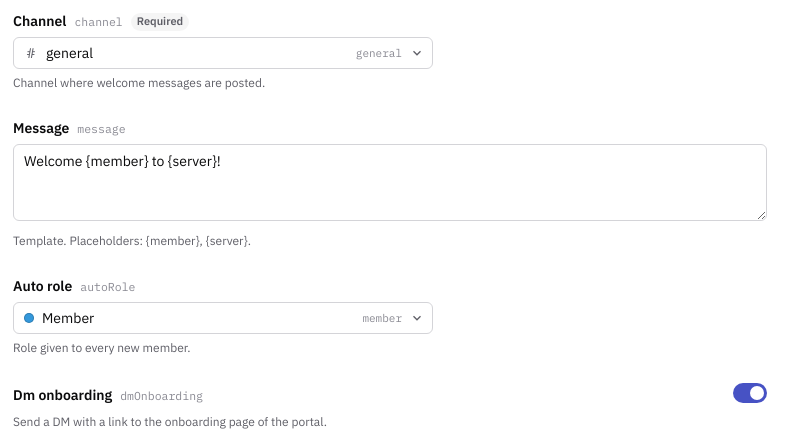
it: rendering the welcome schema › channel picker lists managed channels by category and stores the key
Step 1. Click the dropdown named "Channel" → (70, 52), box x1=13 y1=37 x2=433 y2=69
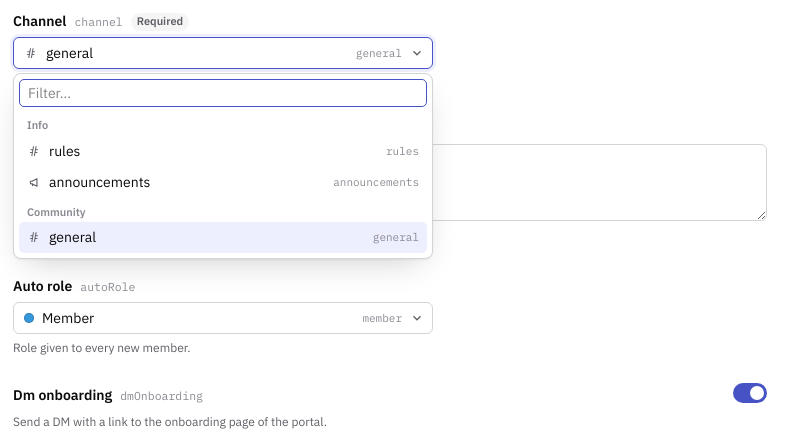
Expected: the text "Info" is shown, x1=27 y1=118 x2=48 y2=132
Step 2. Click the option "announcements announcements" → (100, 182), box x1=28 y1=172 x2=419 y2=190
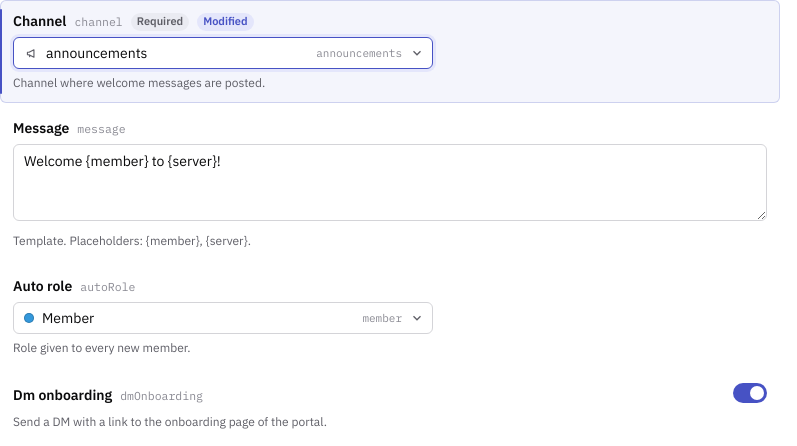
Expected: the dropdown named "Channel" shows "announcements", x1=13 y1=37 x2=433 y2=69
